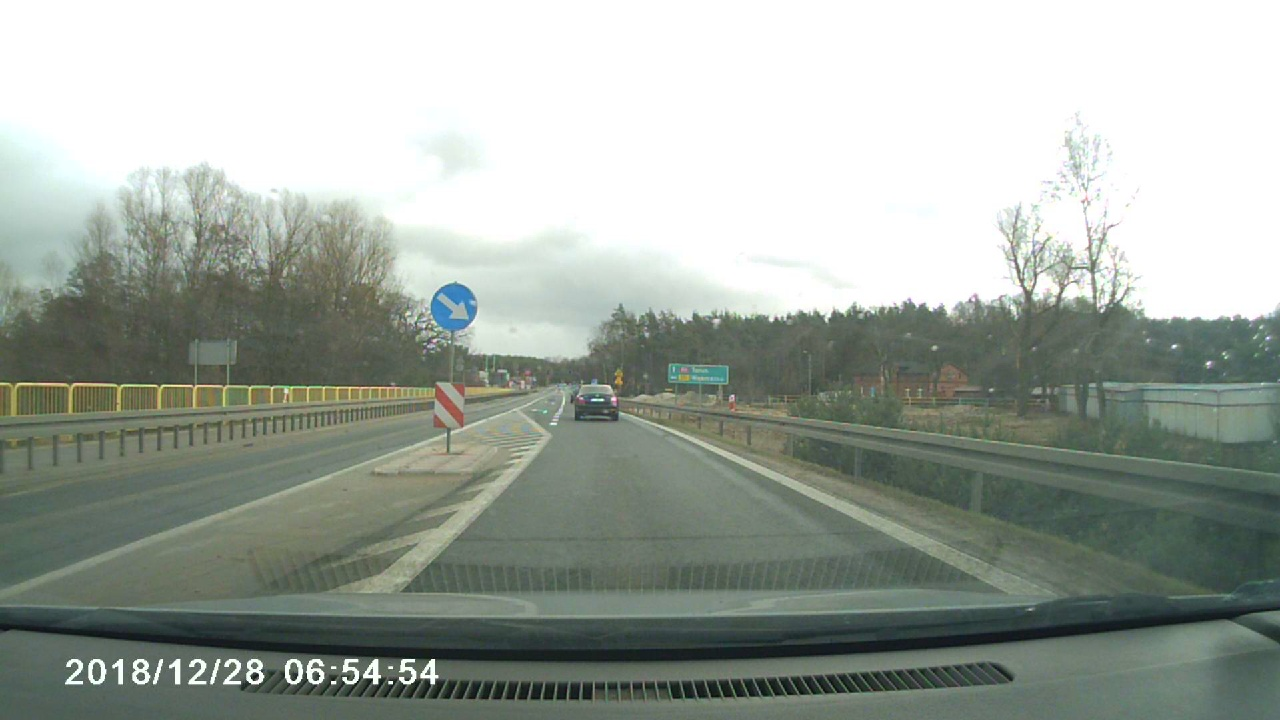C9: (426, 280, 485, 336)
